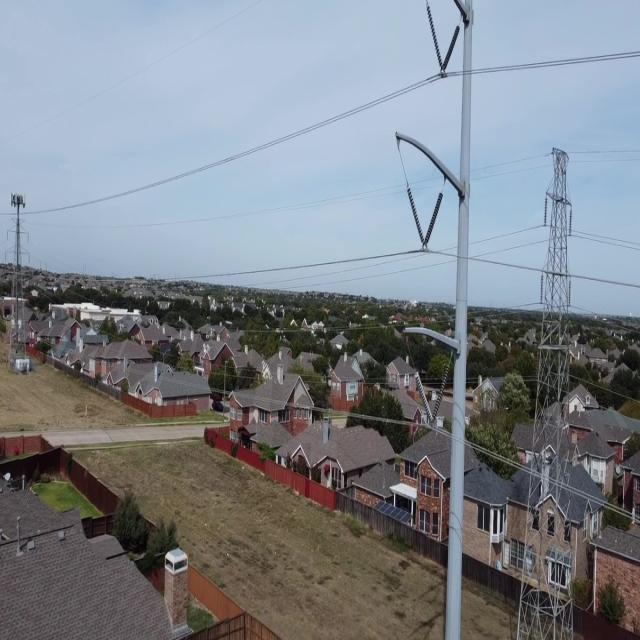杆塔: (516, 143, 578, 640), (2, 187, 35, 377)
正常电缆: (49, 95, 379, 225), (108, 340, 421, 441), (143, 238, 410, 291), (483, 31, 638, 83)
正常绝缘子: (425, 10, 464, 79), (423, 189, 449, 252), (401, 178, 421, 245), (432, 363, 452, 422), (414, 371, 432, 419), (539, 269, 546, 308), (541, 193, 549, 227), (567, 202, 574, 237), (566, 274, 573, 307)
